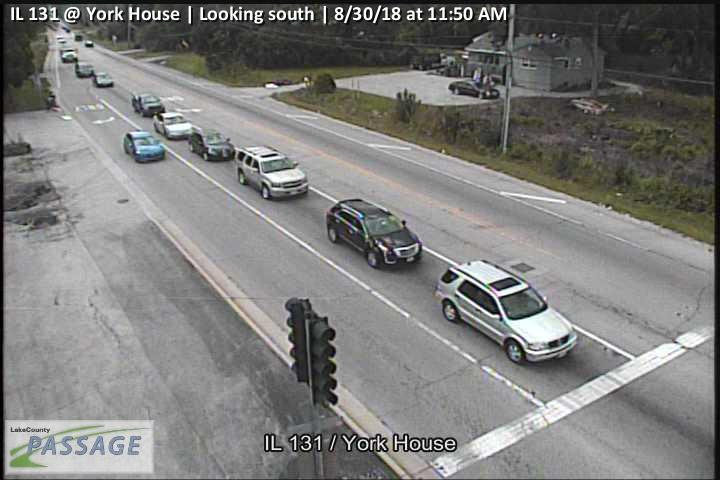SUV: (435, 258, 577, 364), (324, 197, 423, 269), (233, 143, 308, 199)
Sedan: (185, 129, 233, 160), (122, 129, 166, 162), (153, 112, 196, 140), (448, 80, 499, 97), (131, 92, 166, 116), (93, 71, 114, 87), (75, 61, 94, 77)
